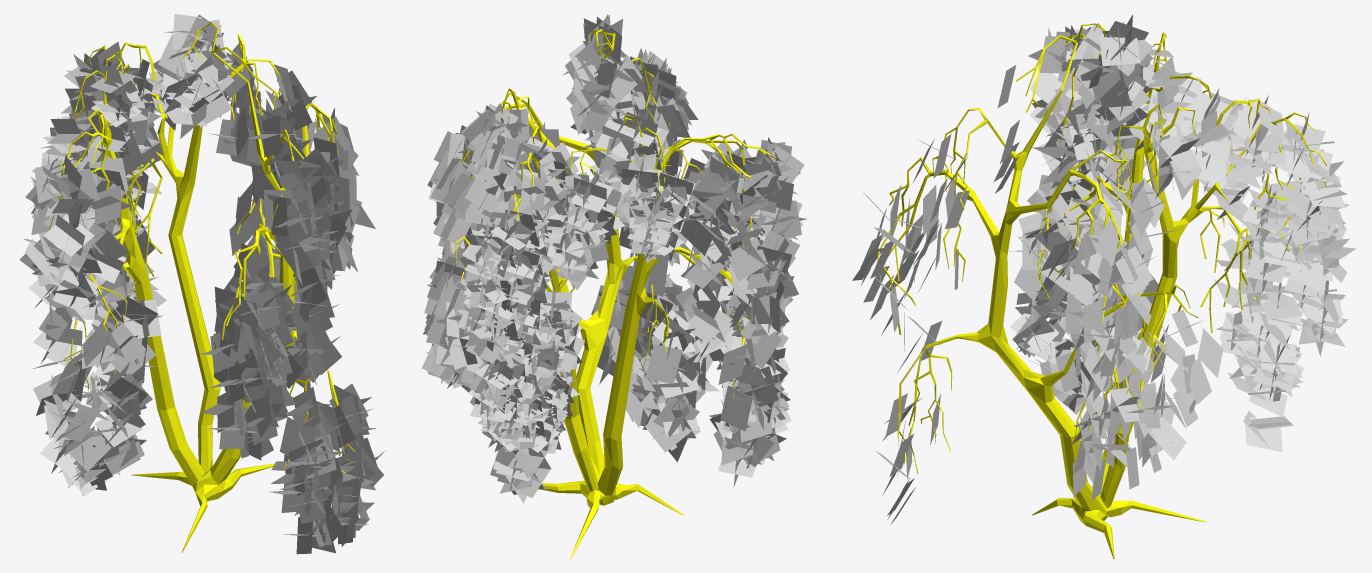
Rendered from tree_birch_b.glb.
3 renders of one model, left to right at view 1: azimuth 30°, elevation 25°; view 2: azimuth 150°, elevation 25°; view 3: azimuth 270°, elevation 25°, orthographic. The views are drawn at different scales.
Visible parts, largest first — view 1: Birch_02_LOD0, SM_Birch_02_LOD0; view 2: Birch_02_LOD0, SM_Birch_02_LOD0; view 3: Birch_02_LOD0, SM_Birch_02_LOD0.
Part boxes in pixels (<box>): Birch_02_LOD0: <box>19,14,384,554</box>; SM_Birch_02_LOD0: <box>49,22,354,552</box>; Birch_02_LOD0: <box>421,14,806,503</box>; SM_Birch_02_LOD0: <box>455,29,776,558</box>; Birch_02_LOD0: <box>852,14,1355,524</box>; SM_Birch_02_LOD0: <box>875,23,1327,558</box>.
Bounding box in the file's own units: 8.9 × 11.72 × 10.59.
